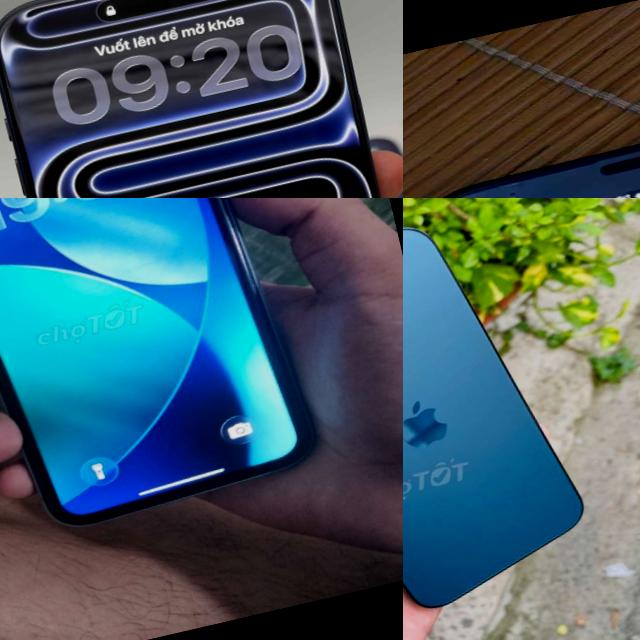gen_11: (0, 198, 324, 546)
gen_12_13: (403, 198, 605, 640), (403, 78, 640, 198)
gen_17: (0, 0, 403, 198)
